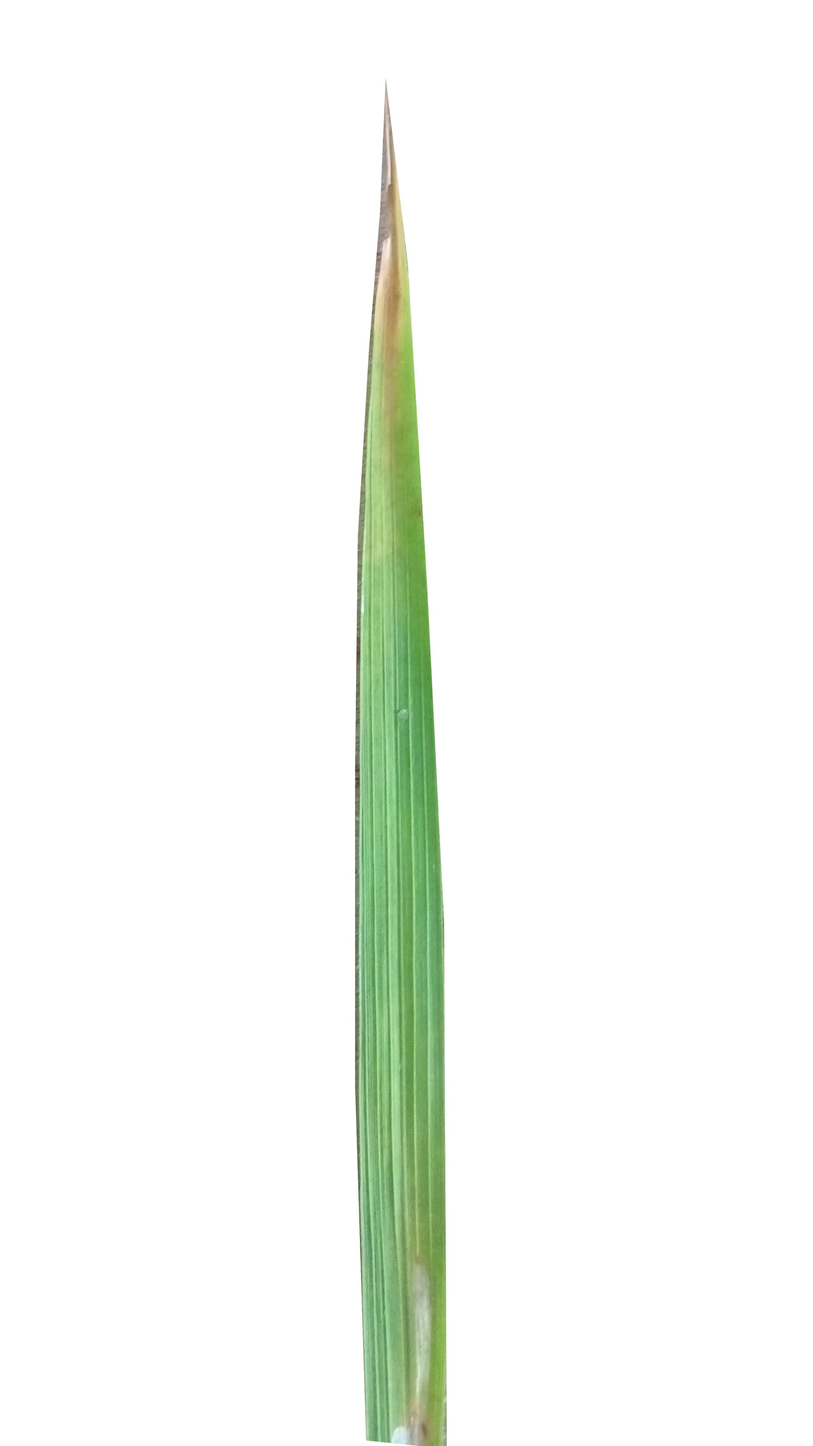Tungro: (363, 221, 420, 554)
